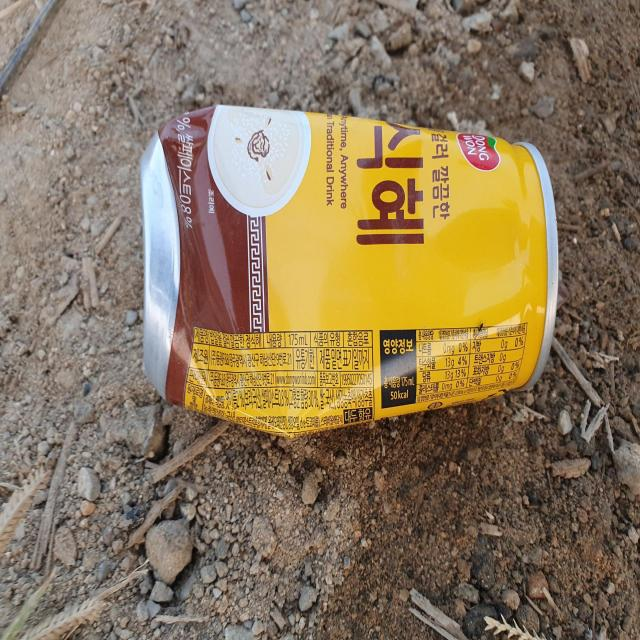can: (140, 104, 559, 436)
